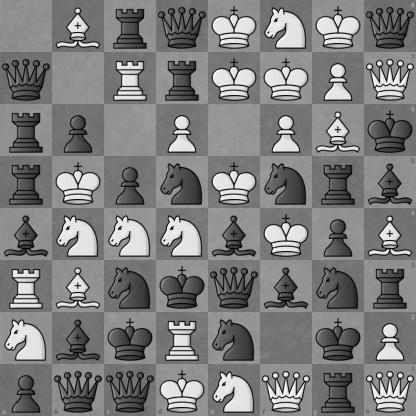B: (364, 209, 416, 260), (53, 1, 104, 52), (53, 261, 104, 312), (313, 105, 364, 156)
K: (156, 364, 209, 416), (53, 157, 104, 208), (209, 1, 260, 52), (209, 53, 260, 104), (209, 157, 260, 208), (261, 53, 312, 104), (261, 209, 312, 260), (313, 1, 364, 52)
N: (209, 364, 260, 416), (1, 313, 52, 364), (53, 209, 104, 260), (105, 209, 156, 260), (157, 209, 208, 260), (261, 1, 312, 52)
P: (364, 312, 416, 364), (157, 105, 208, 156), (261, 105, 312, 156), (313, 53, 364, 104)
Q: (260, 364, 312, 416), (364, 52, 416, 104), (364, 364, 416, 416)
R: (1, 261, 52, 312), (105, 53, 156, 104), (157, 313, 208, 364)
b: (364, 156, 416, 209), (1, 209, 52, 260), (53, 313, 104, 364), (209, 209, 260, 260), (261, 261, 312, 312)
board: (0, 0, 415, 415)
k: (364, 104, 416, 156), (105, 313, 156, 364), (157, 261, 208, 312), (313, 313, 364, 364)
n: (105, 261, 156, 312), (157, 157, 208, 208), (209, 313, 260, 364), (261, 157, 312, 208), (313, 261, 364, 312)
p: (0, 364, 52, 416), (53, 105, 104, 156), (105, 157, 156, 208), (313, 209, 364, 260)
q: (52, 364, 104, 416), (104, 364, 156, 416), (364, 0, 416, 52), (1, 53, 52, 104), (157, 1, 208, 52), (209, 261, 260, 312)
r: (312, 364, 364, 416), (364, 260, 416, 312), (1, 105, 52, 156), (1, 157, 52, 208), (105, 1, 156, 52), (157, 53, 208, 104), (313, 157, 364, 208)
